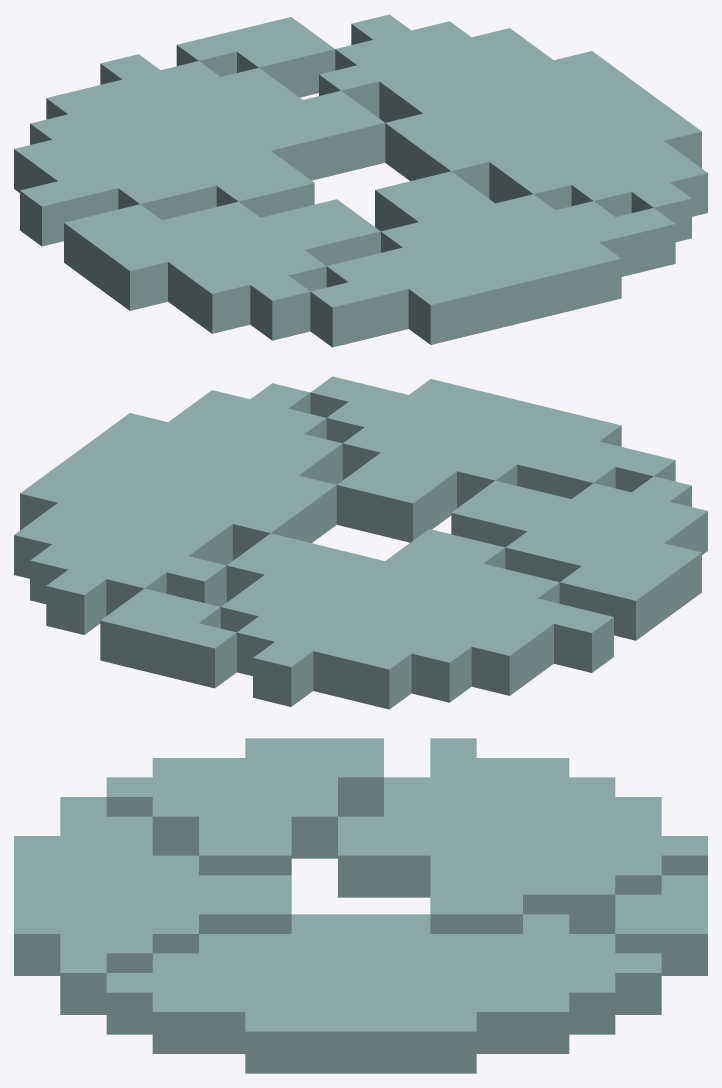
File: FloatingPlatform4.obj
The picture shows the model from 3 angles, top to bottom: view 1: azimuth 30°, elevation 25°; view 2: azimuth 150°, elevation 25°; view 3: azimuth 270°, elevation 25°; orthographic projection. The views are drawn at different scales.
Parts seen in each view (by area): view 1: FloatingPlatform4; view 2: FloatingPlatform4; view 3: FloatingPlatform4.
Part boxes in pixels (<box>): FloatingPlatform4: <box>14,14,707,347</box>; FloatingPlatform4: <box>14,376,707,709</box>; FloatingPlatform4: <box>14,738,707,1073</box>.
Bounding box in the file's own units: 15 × 1 × 15.
1 material, 1 textured.
